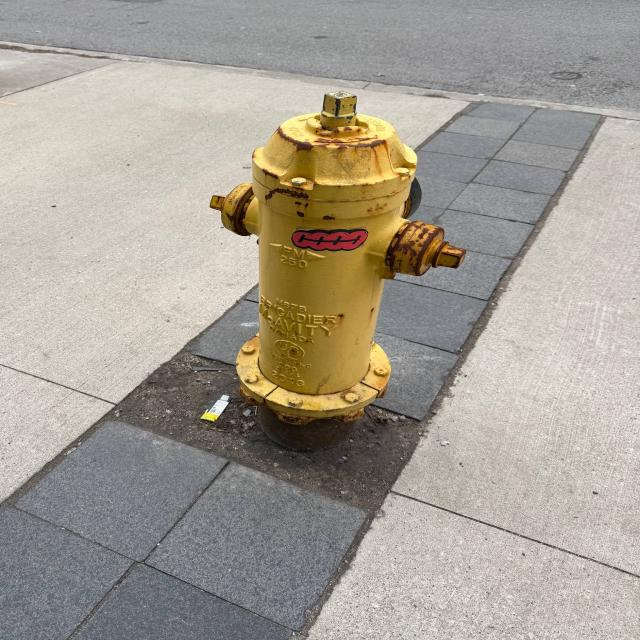Fire hydrant: (210, 91, 467, 426)
